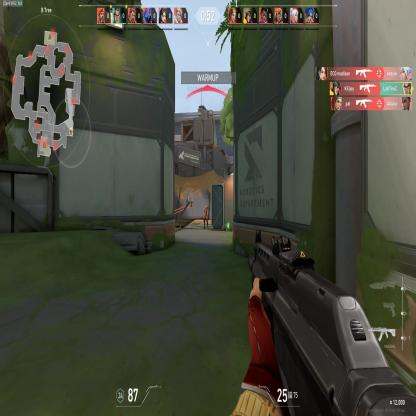enemy: (203, 206, 209, 230)
